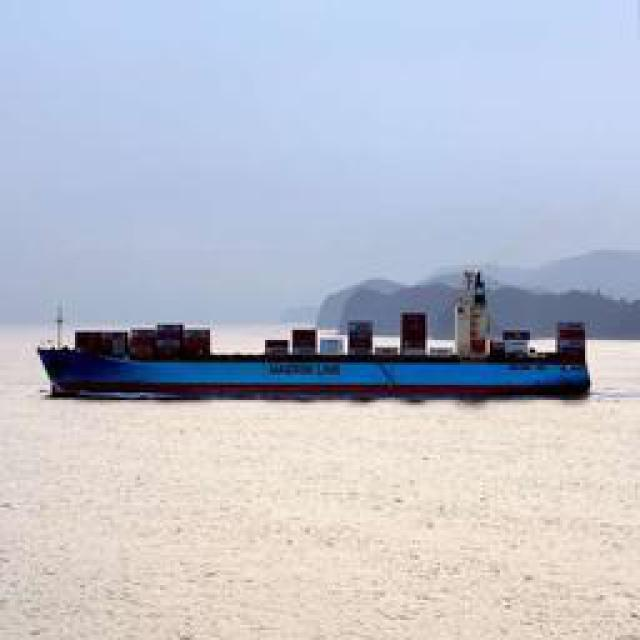Ship: (42, 274, 592, 404)
